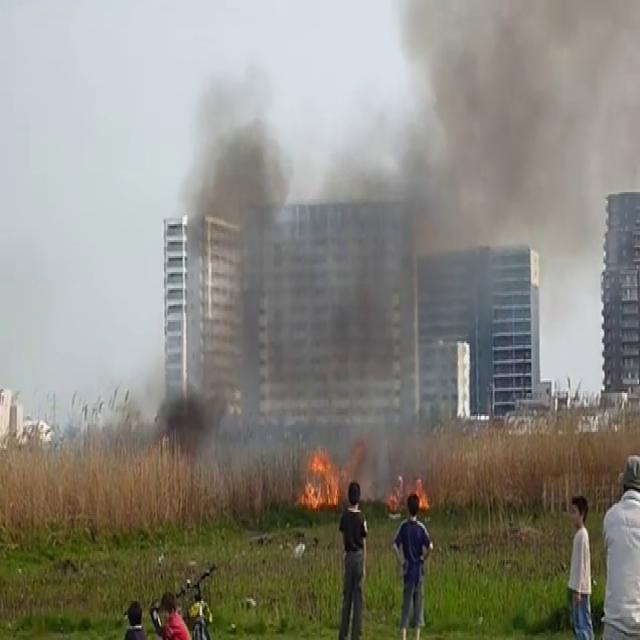Fire: (296, 438, 346, 515)
Smoke: (186, 0, 640, 452)
